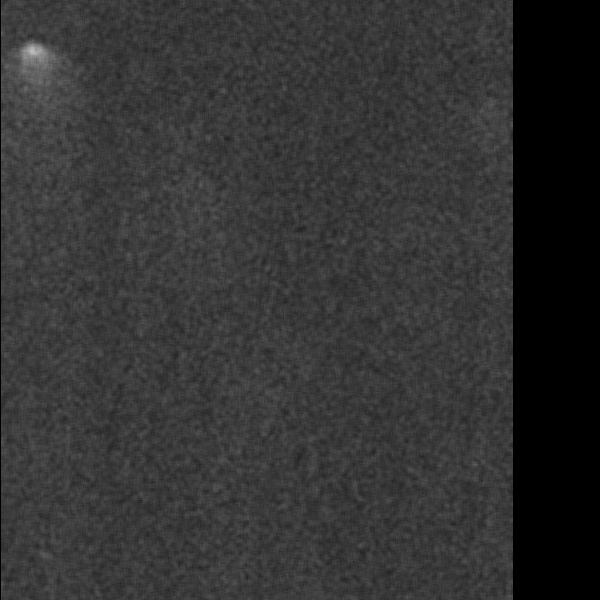spark: (5, 39, 65, 103), (193, 173, 202, 195)
